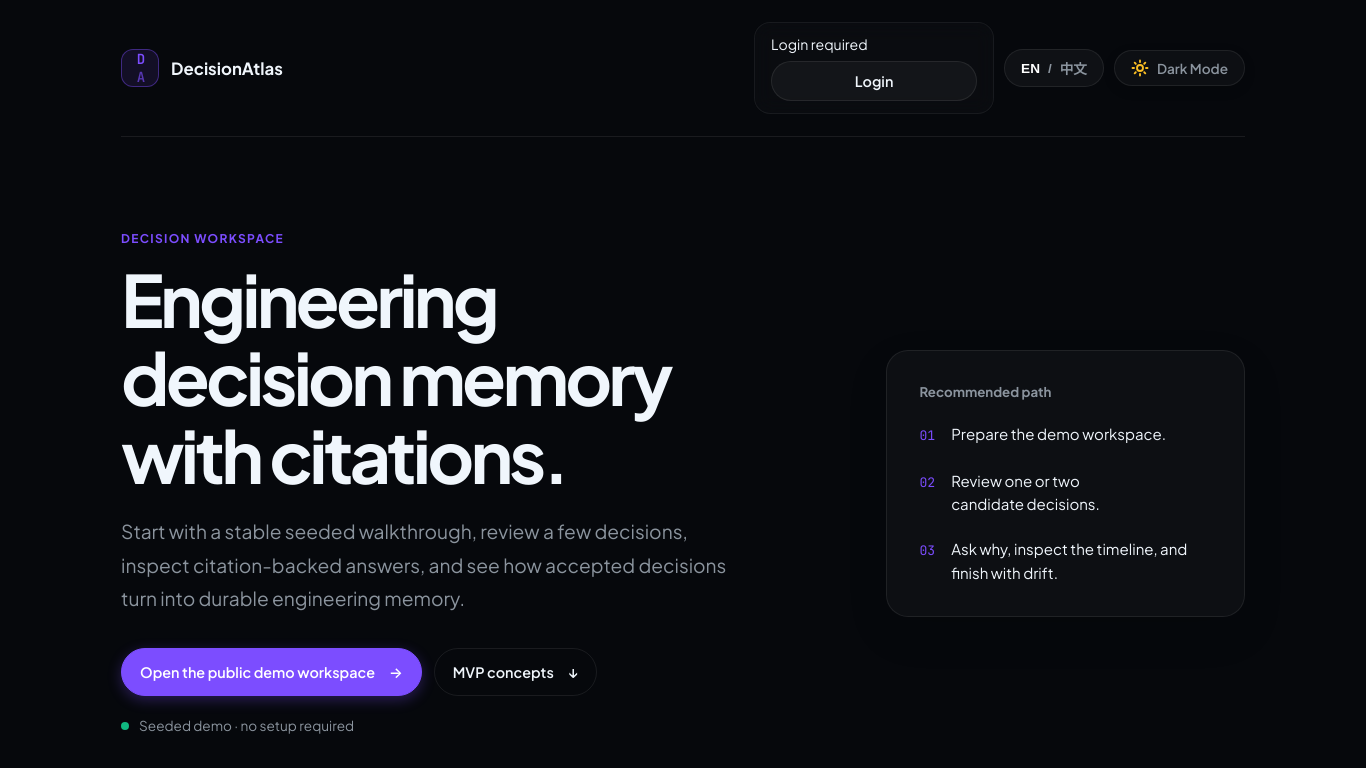
Scenario: language toggle › switches the homepage between English and Chinese
Expected: the heading "Engineering decision memory with citations." is shown, [121,253,670,500]
Click the button with aria-label "Language" at (1054, 68), box [1004,49,1104,87]
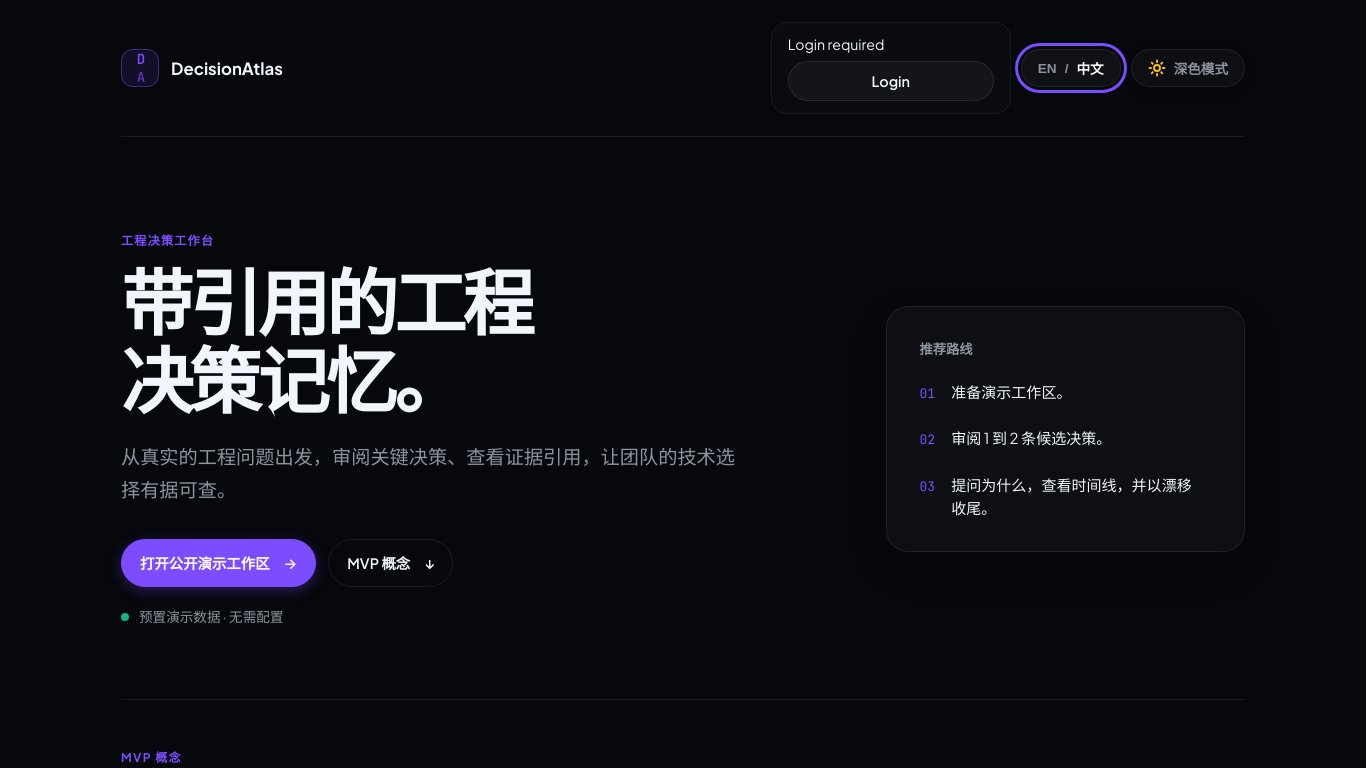
Now the heading "带引用的工程决策记忆。" is shown, box [121,255,530,424]
